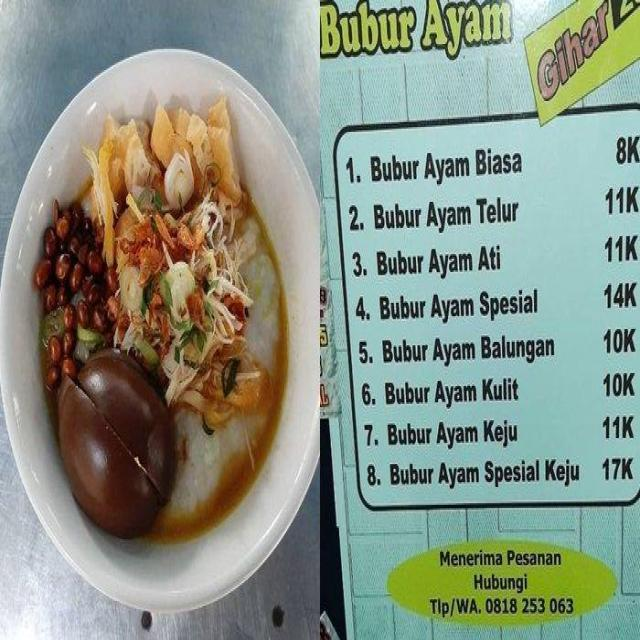bubur ayam: (37, 96, 288, 542)
mangkuk: (1, 48, 320, 615)
